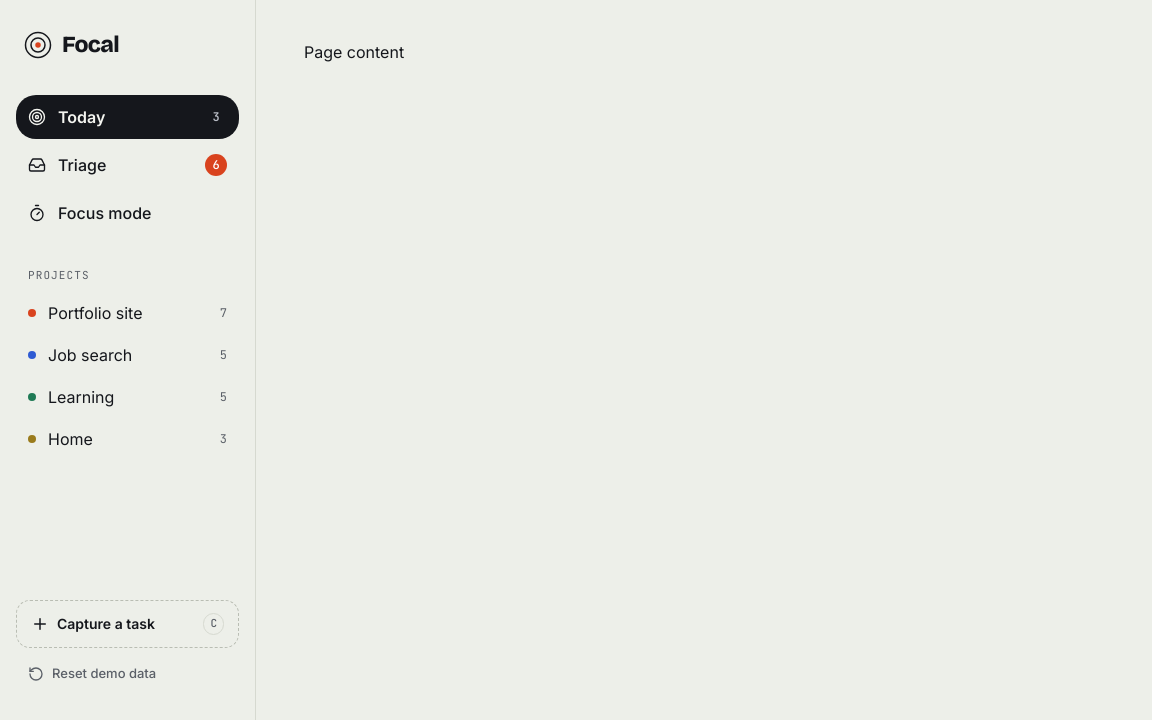
Test: AppShell › opens capture from the sidebar button and can be cancelled
Click the button "Capture a task C" at x=128, y=624, box [16,600,239,648]
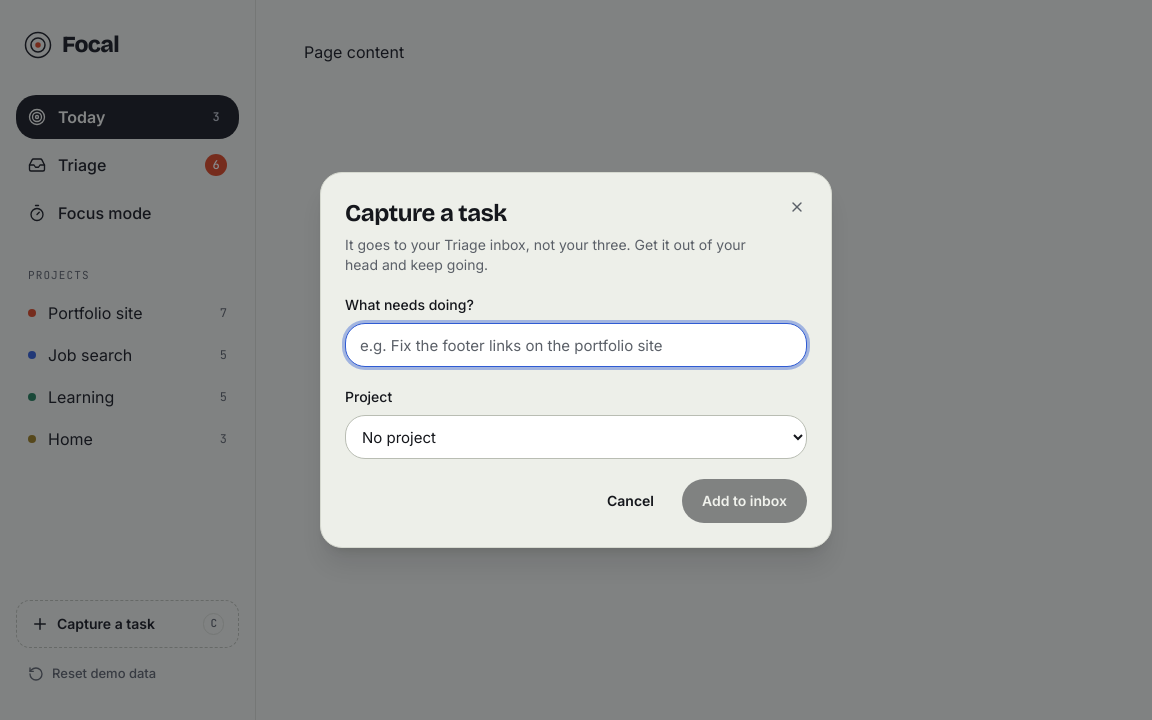
Type "Never mind" into the field labelled "What needs doing?" at x=576, y=345, box [345,323,807,367]
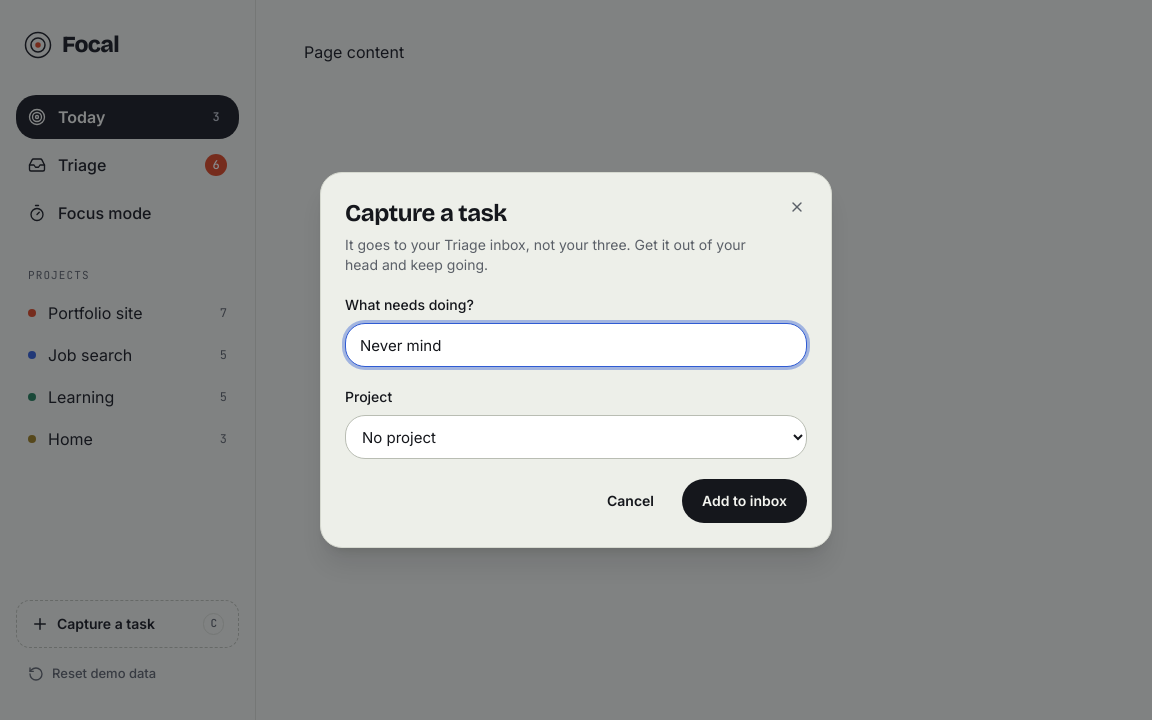
Click the button "Cancel" at x=630, y=501, box [587,479,674,523]
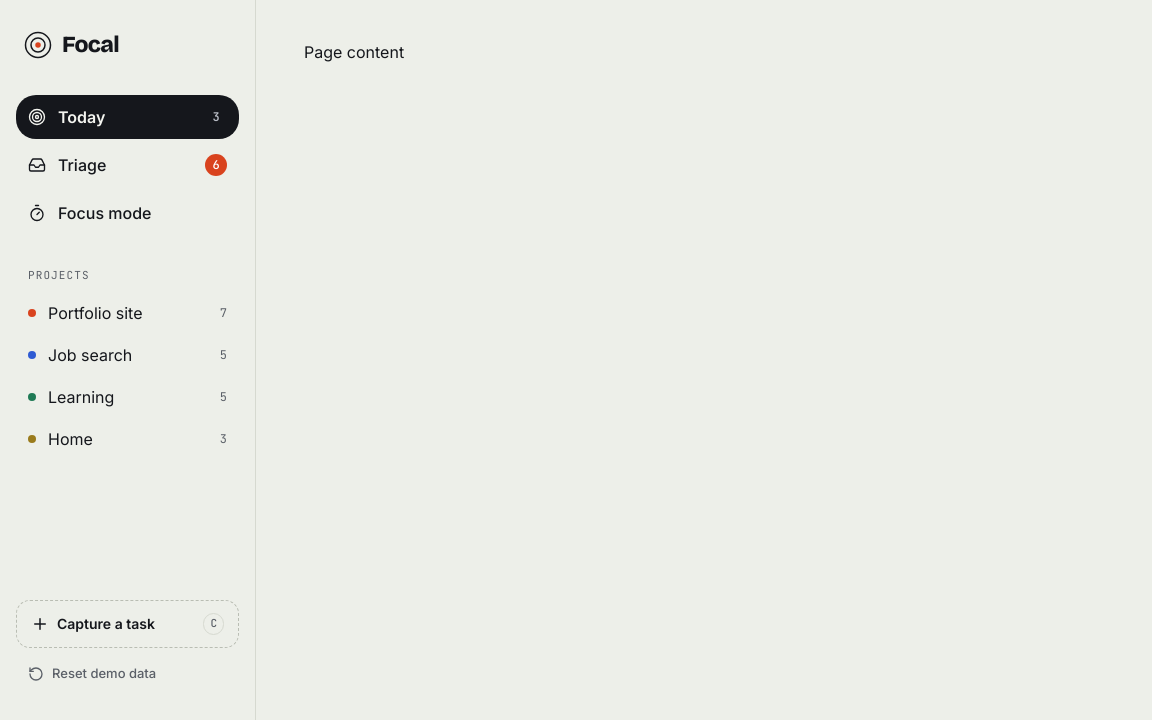
Expected: the dialog is gone
